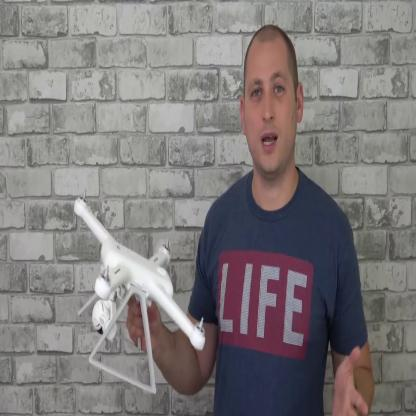drone: (69, 186, 211, 359)
